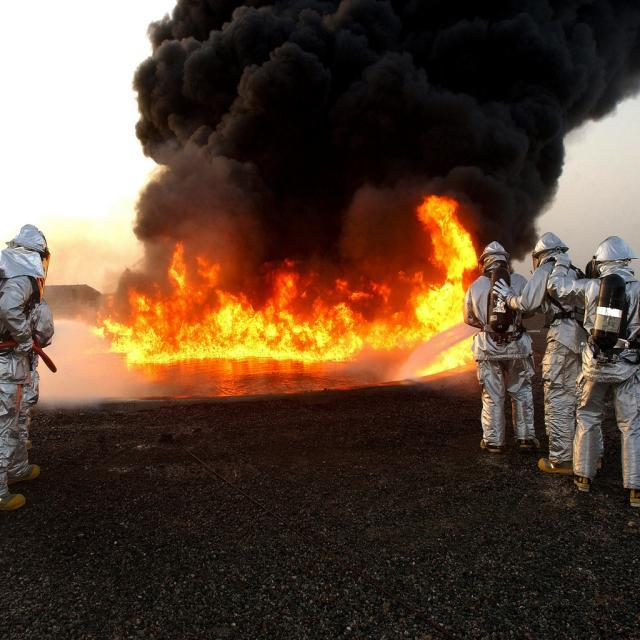Fire: (126, 292, 378, 362), (424, 212, 476, 328)
Smoke: (216, 16, 556, 142)
